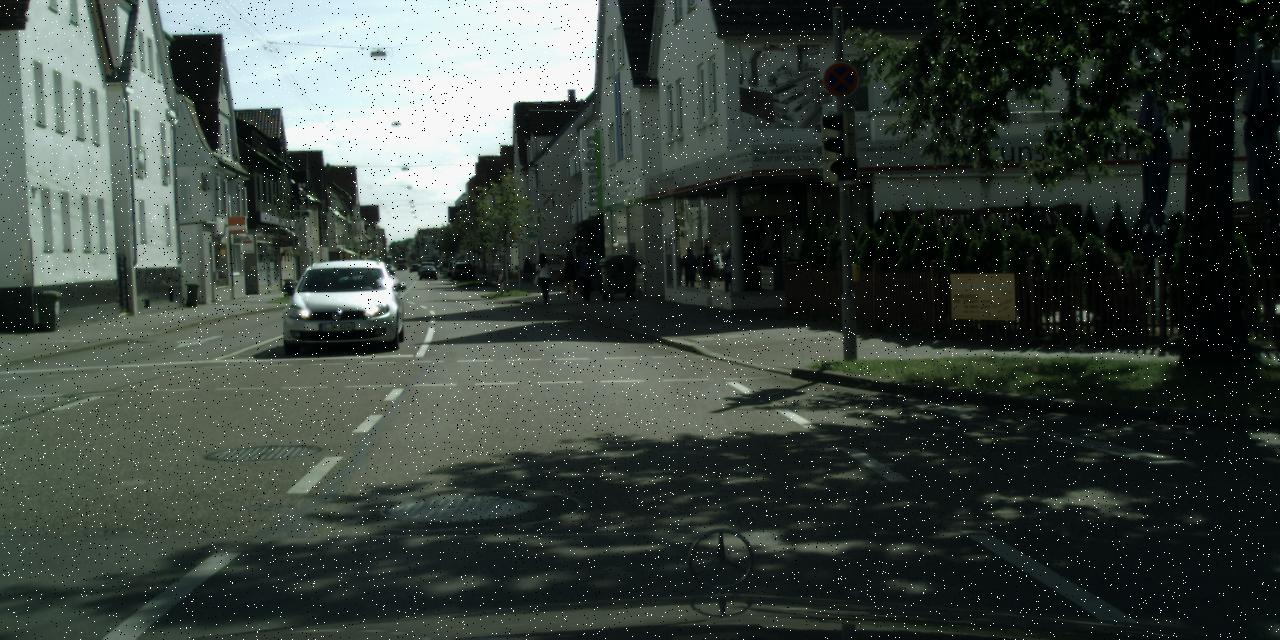ped: (558, 250, 597, 305), (533, 252, 554, 304)
